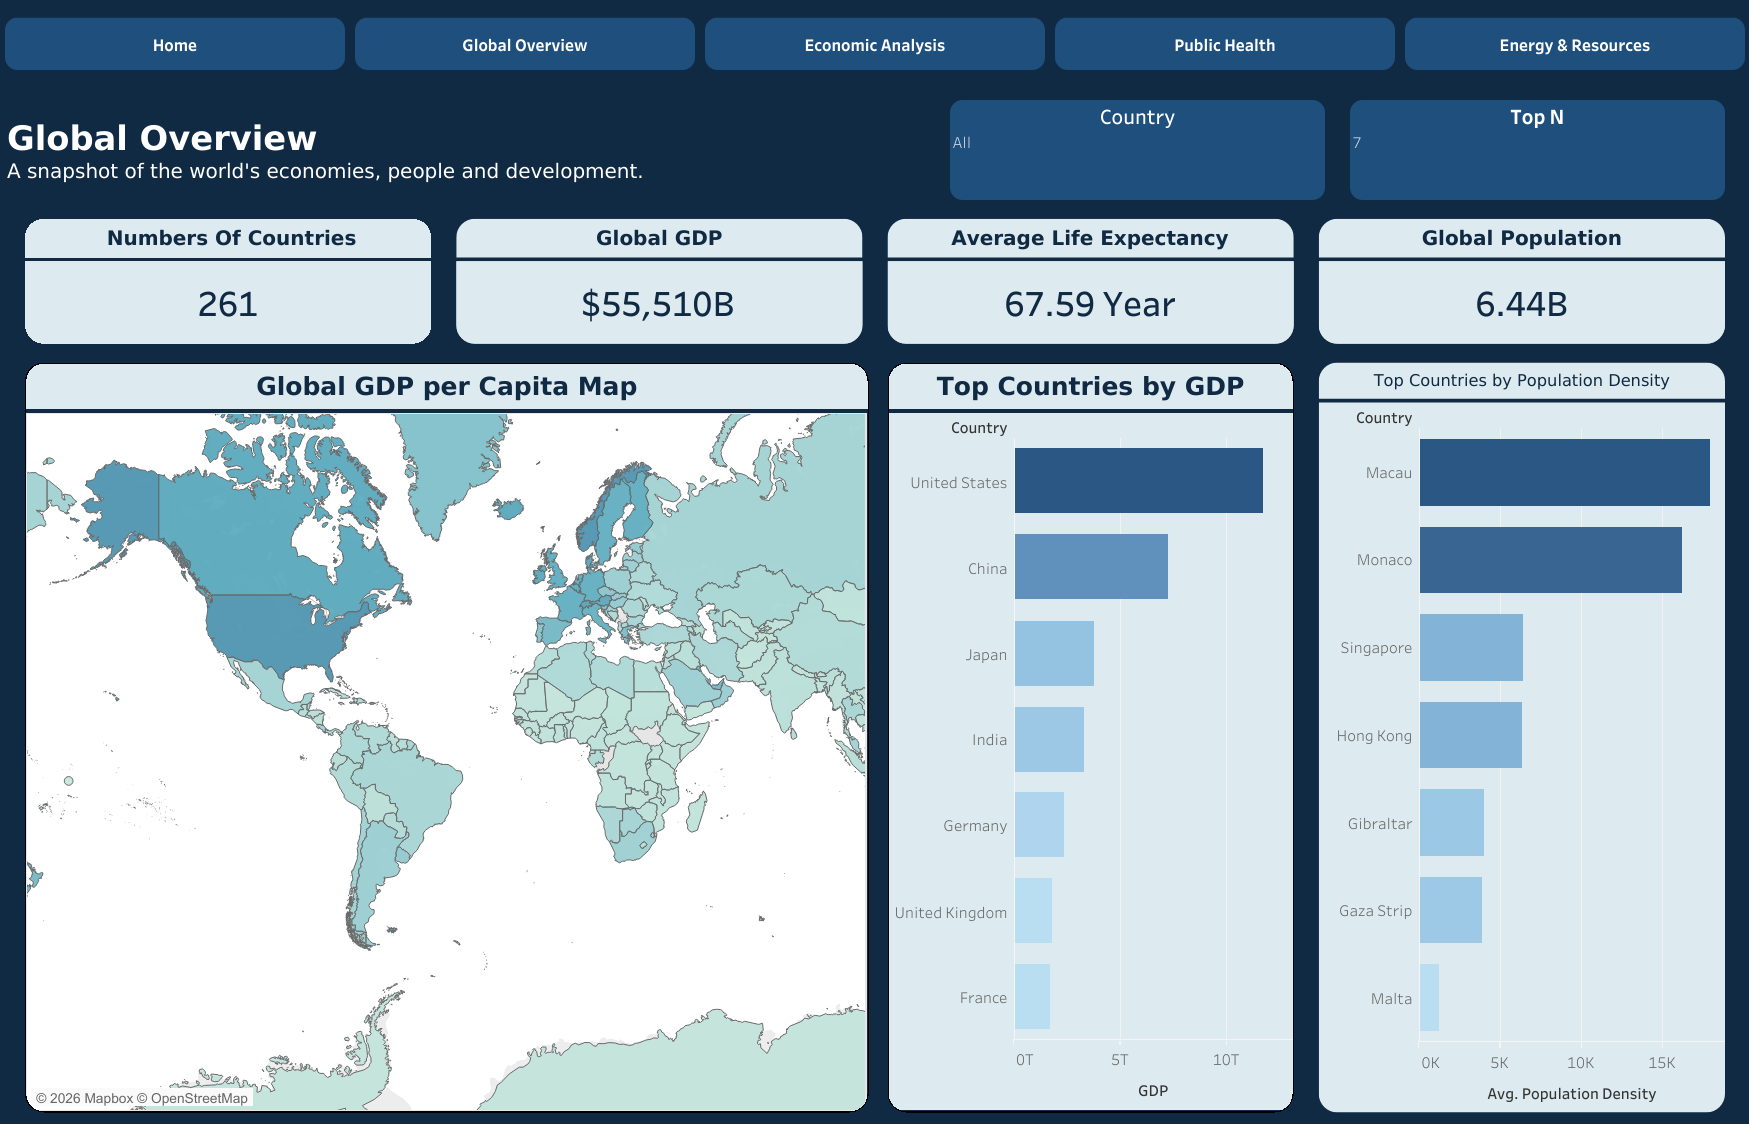

What the dashboard file says about the page in this screenshot:
{"tool":"tableau","page":{"name":"Global Overview","canvas":[1400,900],"ordinal":2},"visuals":[{"type":"dashboard-object","box":[0,1,280,50]},{"type":"dashboard-object","box":[280,1,280,50]},{"type":"dashboard-object","box":[560,1,280,50]},{"type":"dashboard-object","box":[840,1,280,50]},{"type":"dashboard-object","box":[1120,1,280,50]},{"type":"text","box":[3,80,726,80]},{"type":"filter","title":"Global GDP per Capita Map","param":"[federated.10twyn71v79rwr1h9lt141yk2yql].[none:Country:nk]","box":[760,80,300,80]},{"type":"parameter","param":"[Parameters].[Parameter 1760923653173256]","box":[1080,80,300,80]},{"type":"worksheet","title":"Total Countries","mark":"Automatic","box":[20,175,325,100]},{"type":"worksheet","title":"Global GDP","mark":"Automatic","box":[365,175,325,100]},{"type":"worksheet","title":"Average Life Expectancy","mark":"Automatic","box":[710,175,325,100]},{"type":"worksheet","title":"Global Population","mark":"Automatic","box":[1055,175,325,100]},{"type":"worksheet","title":"Global GDP per Capita Map","mark":"Multipolygon","box":[20,300,675,600]},{"type":"worksheet","title":"Top 10 Countries by GDP","mark":"Automatic","rows":["Country"],"cols":["GDP"],"box":[710,300,325,600]},{"type":"worksheet","title":"Population Density","mark":"Bar","rows":["Country"],"cols":["Calculation_0877743112982528"],"box":[1055,300,325,600]}]}

Visuals, with their boxes in screenshot pixels (x1, y1, x2, y2), scaled from the page's 1400x900 canvas onto the 1749x1124 screenshot:
dashboard-object: box(0, 1, 350, 64)
dashboard-object: box(350, 1, 700, 64)
dashboard-object: box(700, 1, 1049, 64)
dashboard-object: box(1049, 1, 1399, 64)
dashboard-object: box(1399, 1, 1748, 64)
text: box(4, 100, 911, 200)
"Global GDP per Capita Map" filter: box(949, 100, 1324, 200)
parameter: box(1349, 100, 1724, 200)
"Total Countries" worksheet: box(25, 219, 431, 343)
"Global GDP" worksheet: box(456, 219, 862, 343)
"Average Life Expectancy" worksheet: box(887, 219, 1293, 343)
"Global Population" worksheet: box(1318, 219, 1724, 343)
"Global GDP per Capita Map" worksheet (Multipolygon marks): box(25, 375, 868, 1123)
"Top 10 Countries by GDP" worksheet: box(887, 375, 1293, 1123)
"Population Density" worksheet (Bar marks): box(1318, 375, 1724, 1123)
